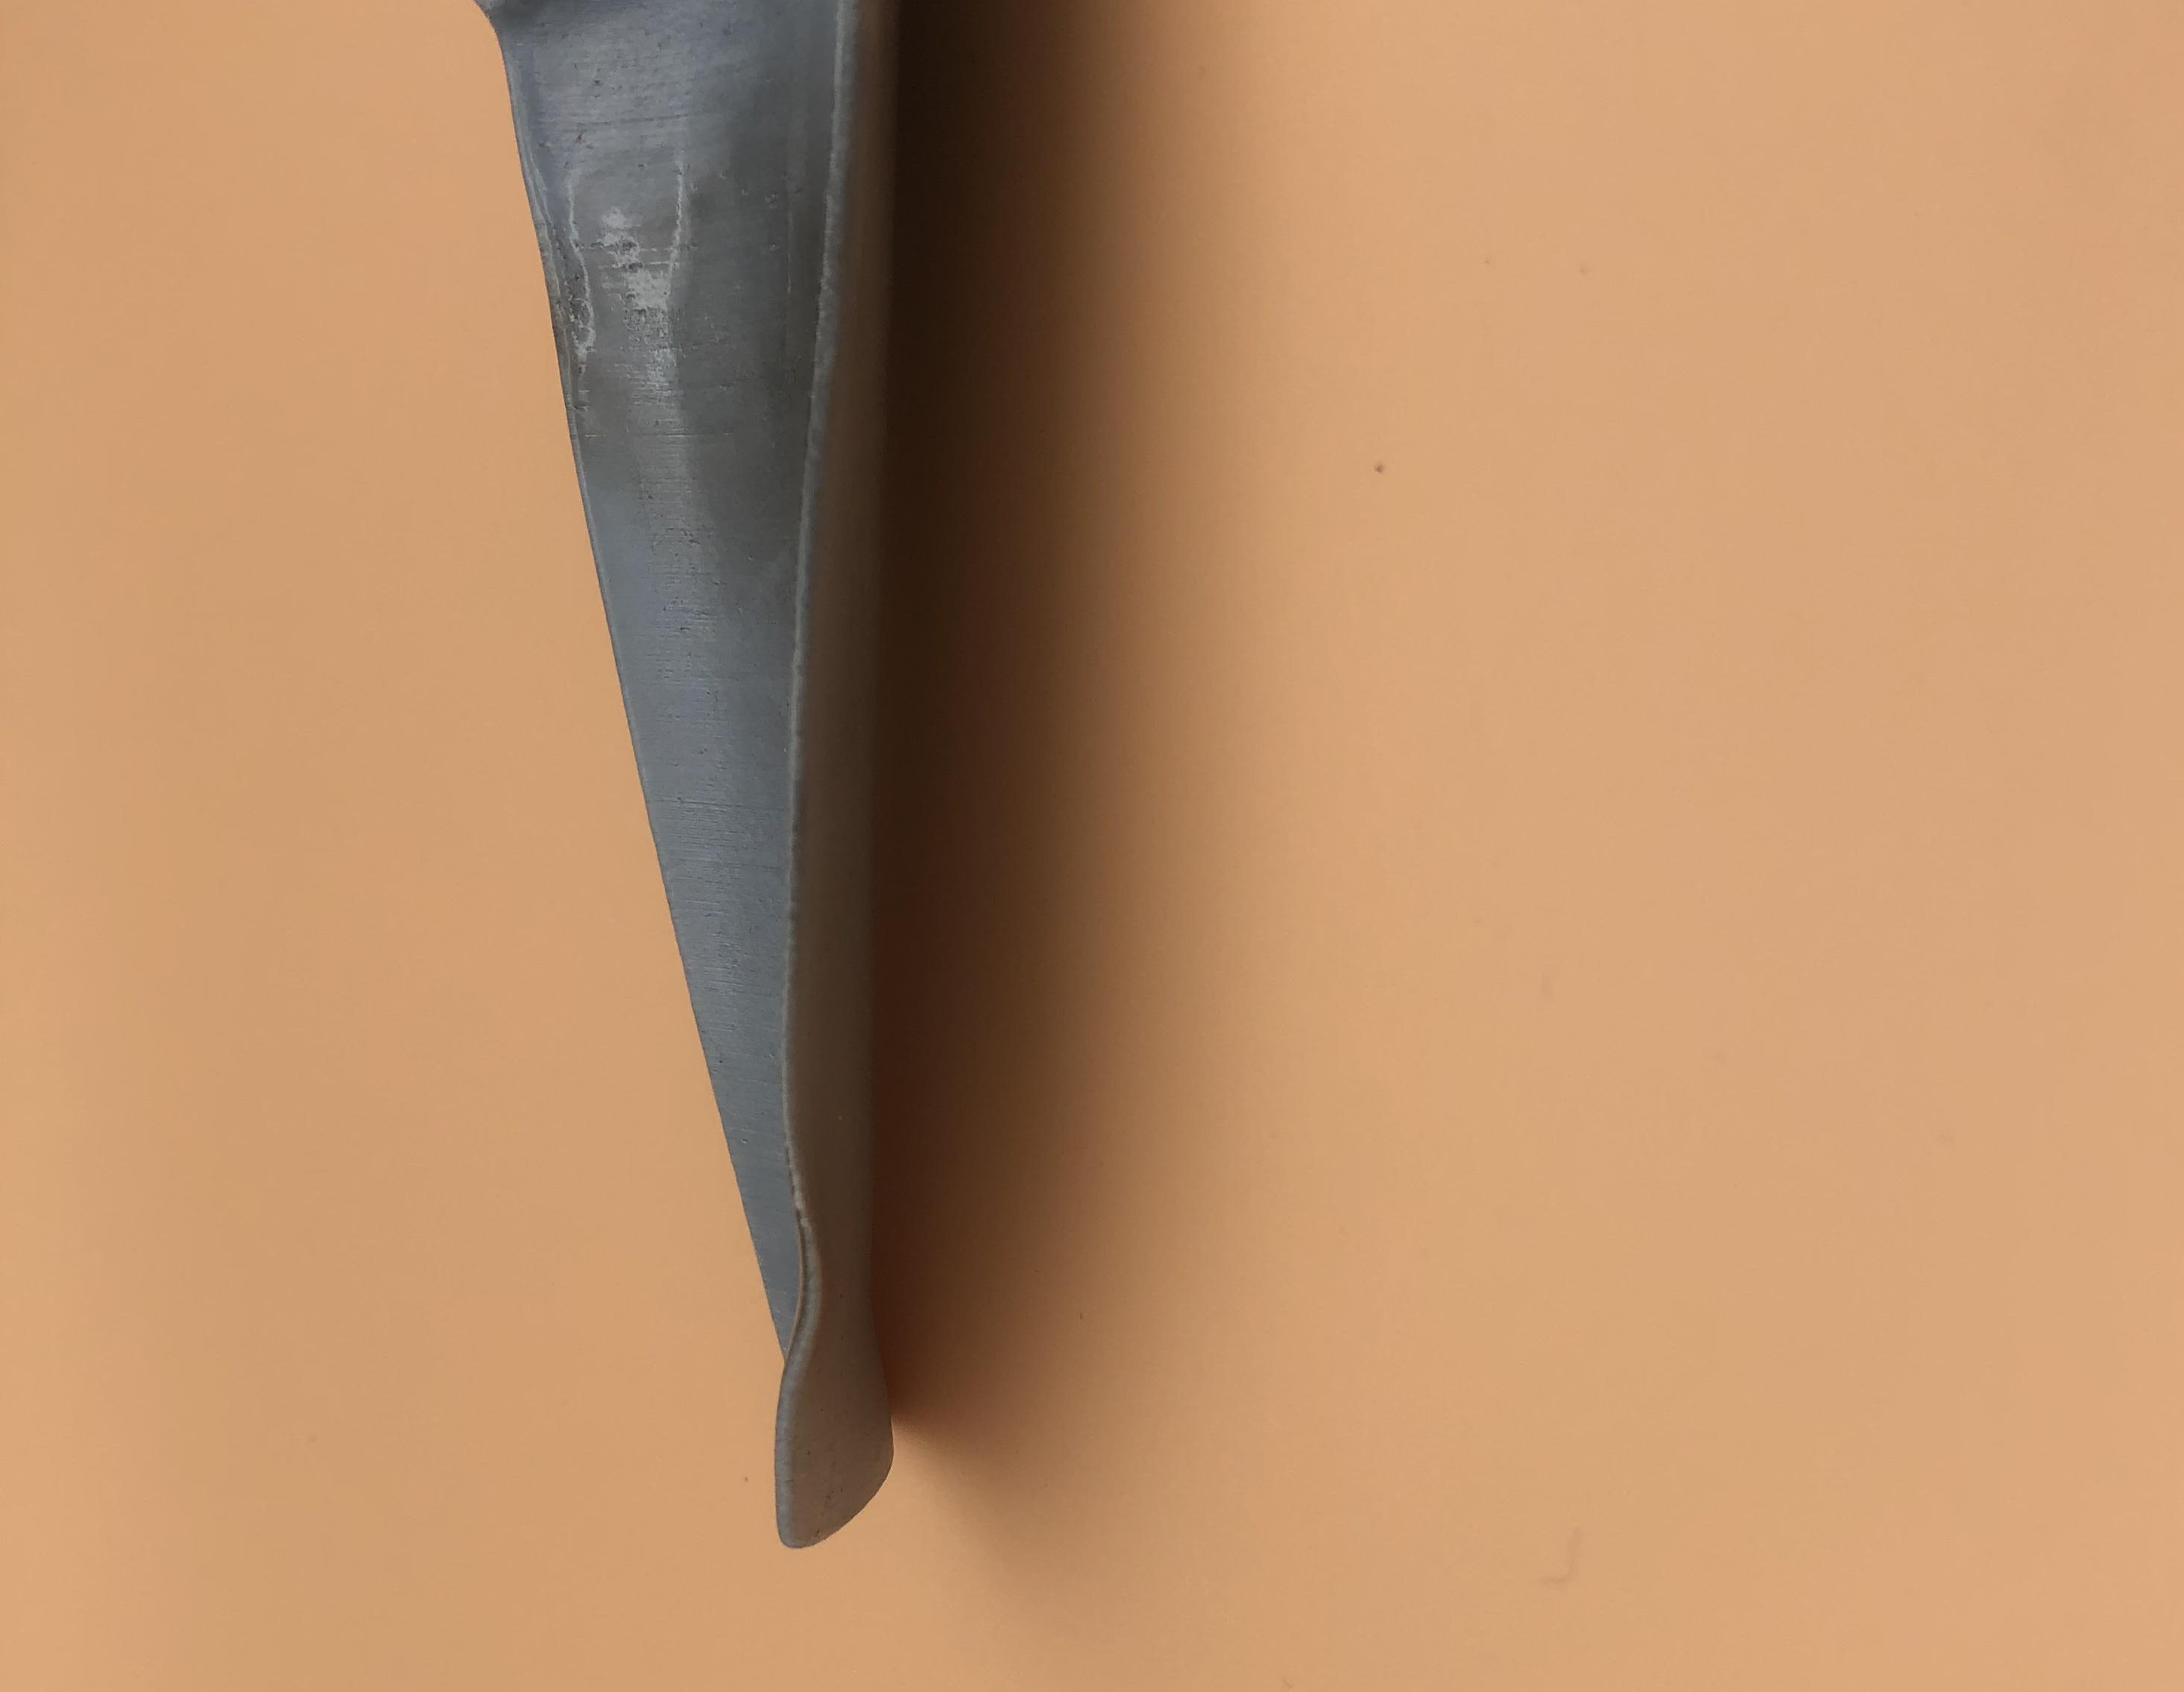ablation: (691, 186, 800, 592)
